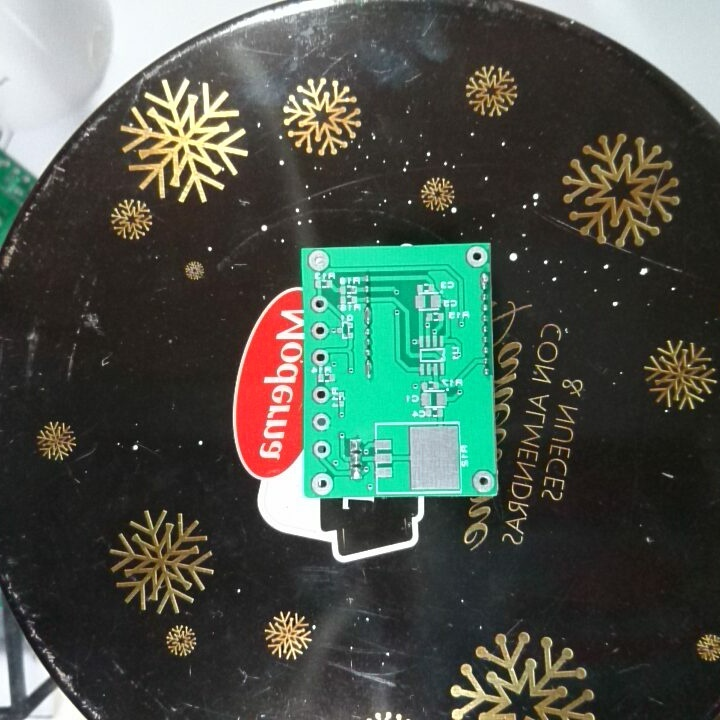F: (305, 247, 331, 272), (470, 468, 494, 495), (308, 472, 335, 495), (464, 244, 488, 269), (308, 384, 331, 406), (310, 412, 333, 433), (308, 319, 329, 340), (310, 346, 331, 367), (311, 439, 332, 460), (310, 295, 330, 315)
P: (362, 357, 377, 381), (362, 304, 375, 326), (478, 271, 490, 294)
